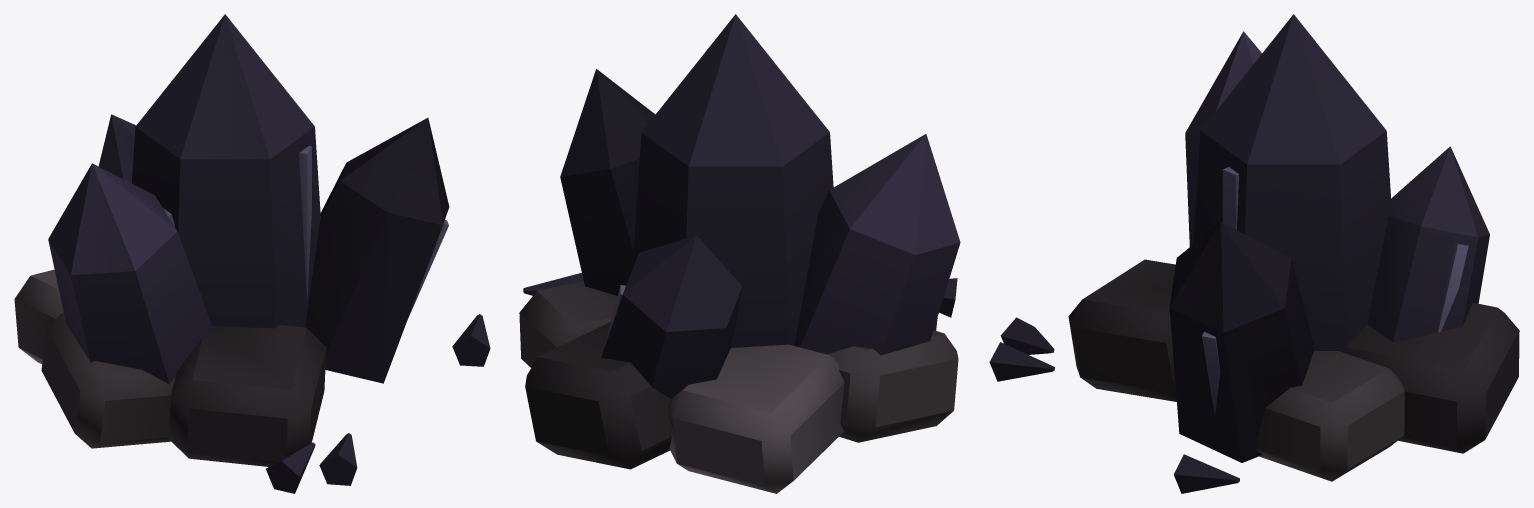
The model's file is n_obsidian_2.glb.
3 views of the same model, side by side, from view 1: azimuth 30°, elevation 25°; view 2: azimuth 150°, elevation 25°; view 3: azimuth 270°, elevation 25° (orthographic). The views are drawn at different scales.
Parts seen in each view (by area): view 1: body; view 2: body; view 3: body.
Boxes of the visible parts, x1=… form: body: x1=14, y1=14, x2=490, y2=493; body: x1=519, y1=14, x2=960, y2=493; body: x1=989, y1=14, x2=1519, y2=493.
Bounding box in the file's own units: 1.65 × 1.45 × 1.76.
